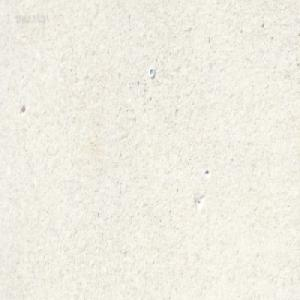Washer: (148, 66, 155, 78)
